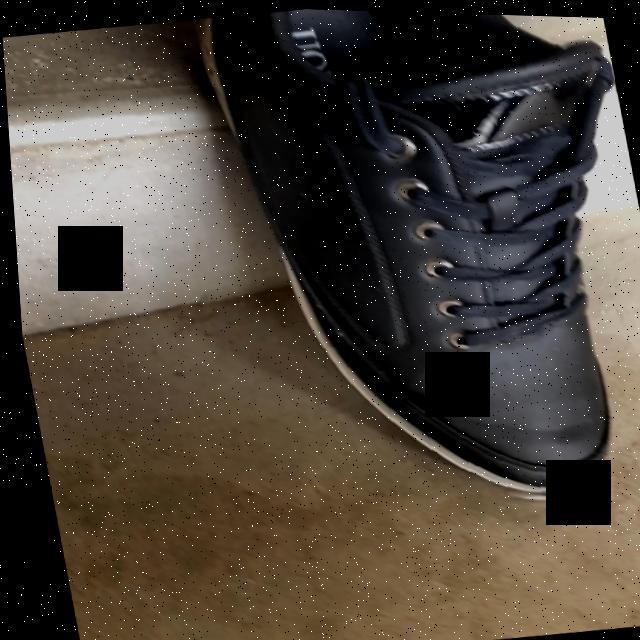shoe: (199, 7, 615, 492)
